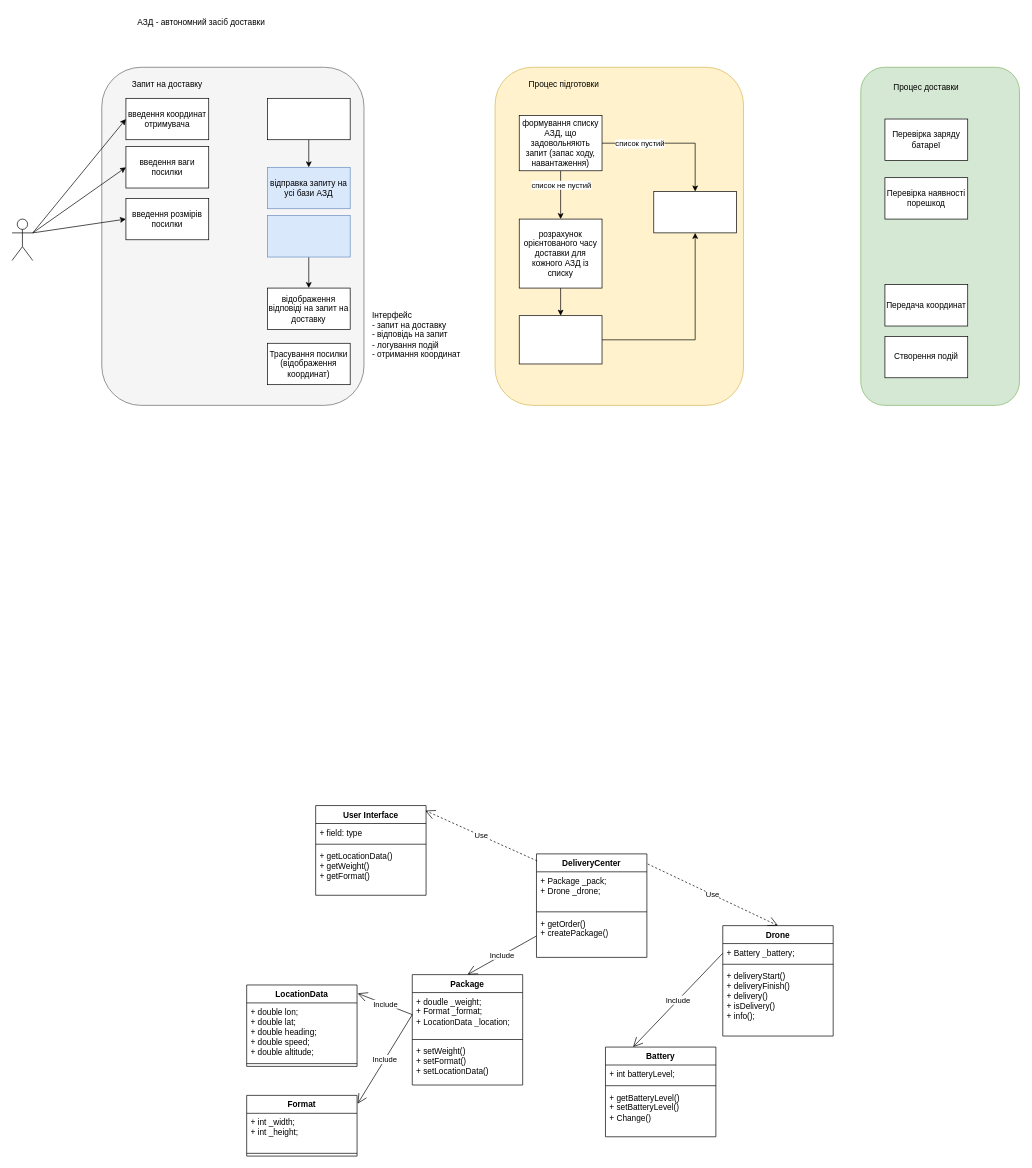
The diagram is 1032 pixels wide and 1168 high, and some of its shapes have lost their labels. Each missing label, with the centre of its shape:
Actor: the point at 22,239
вибір єдиного АЗД за параметром - найменший час доставки: the point at 560,339
відповідь на запит: the point at 695,212
отримання відповіді на запит на доставку: the point at 308,236
формування запиту на доставку: the point at 308,119
